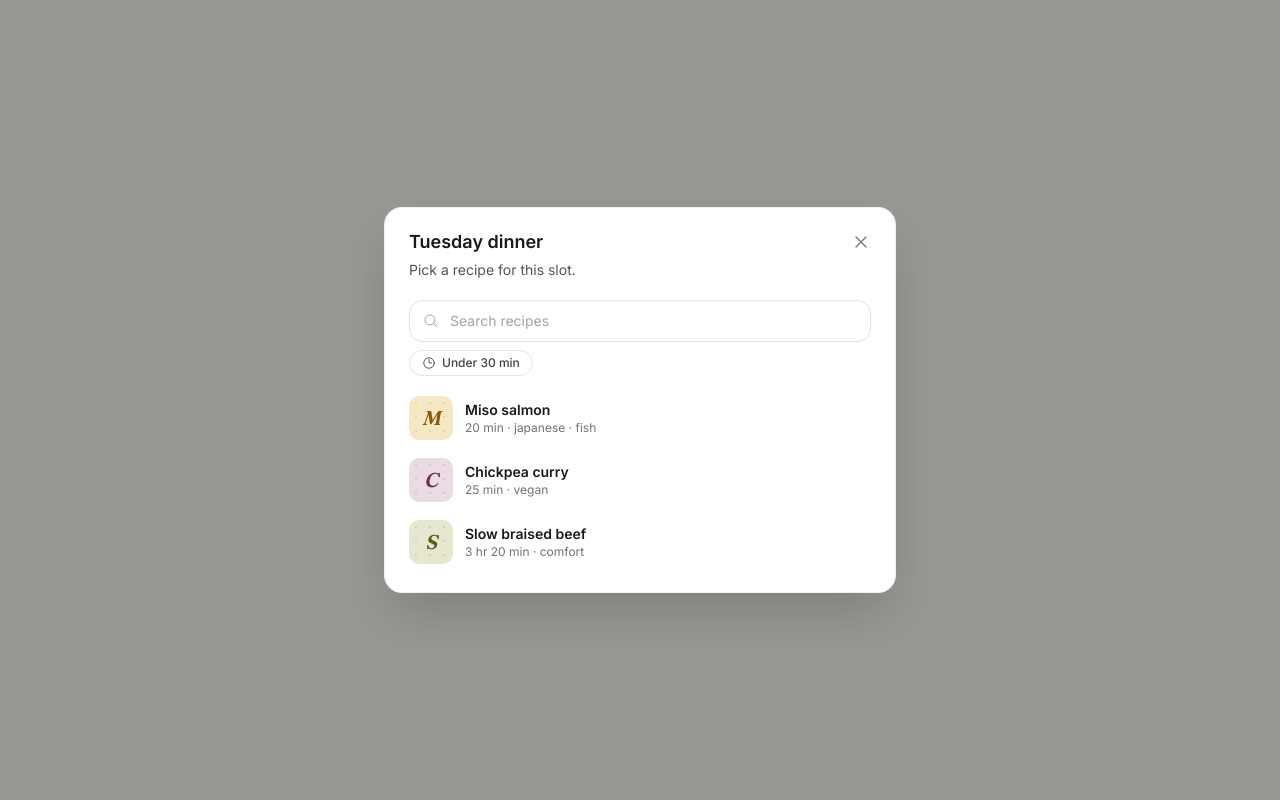
Test case: RecipePicker › lists recent recipes first and filters by search across name, cuisine and tags
Check: the dialog "Tuesday dinner" is shown, box left=384, top=207, right=896, bottom=593
Type "japanese" into the search field labelled "Search recipes".
click(640, 321); type("japanese")  # box left=409, top=300, right=871, bottom=342
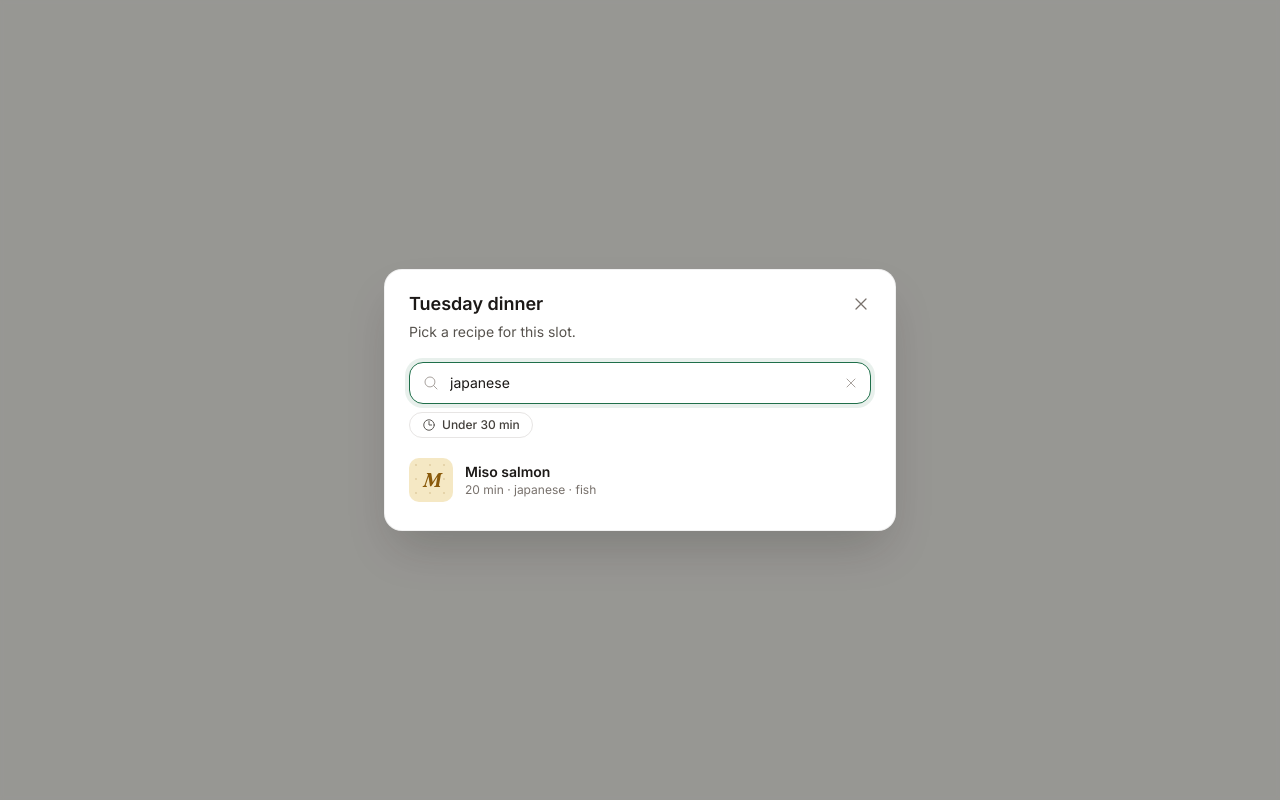
Check: the button "M Miso salmon 20 min · japanese · fish" is shown, box left=401, top=450, right=879, bottom=510
Clear the search field named "Search recipes" at [640, 383], box left=409, top=362, right=871, bottom=404
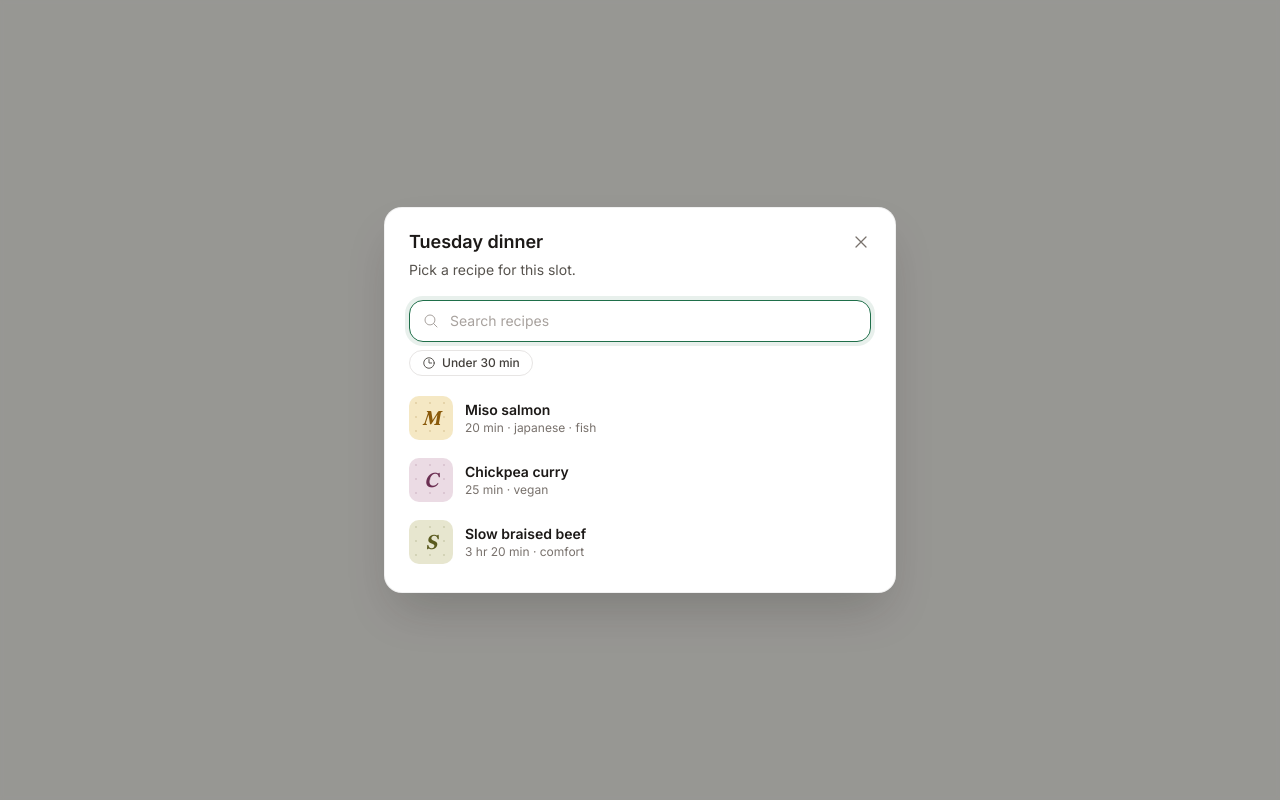
Type "zzz" into the search field labelled "Search recipes".
click(640, 321); type("zzz")  # box left=409, top=300, right=871, bottom=342
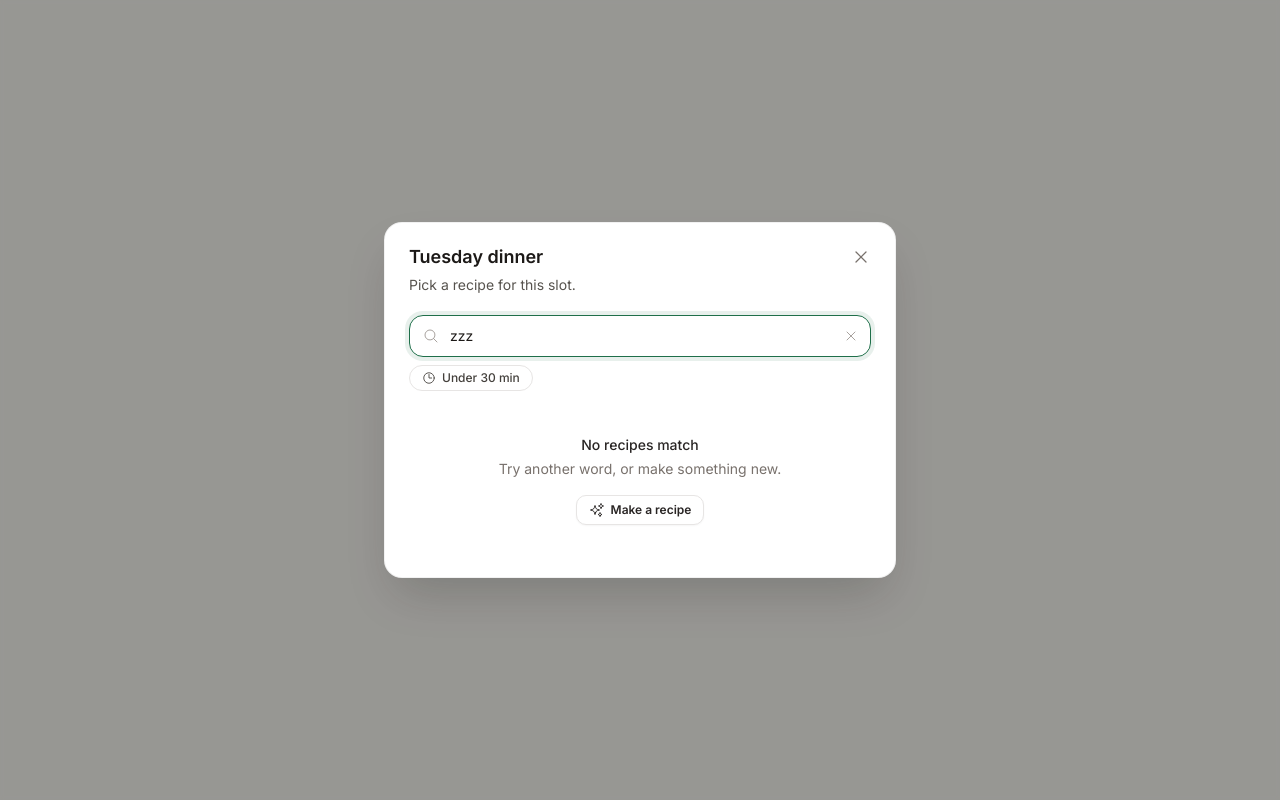
Check: the text "No recipes match" is shown, box left=581, top=436, right=699, bottom=453
